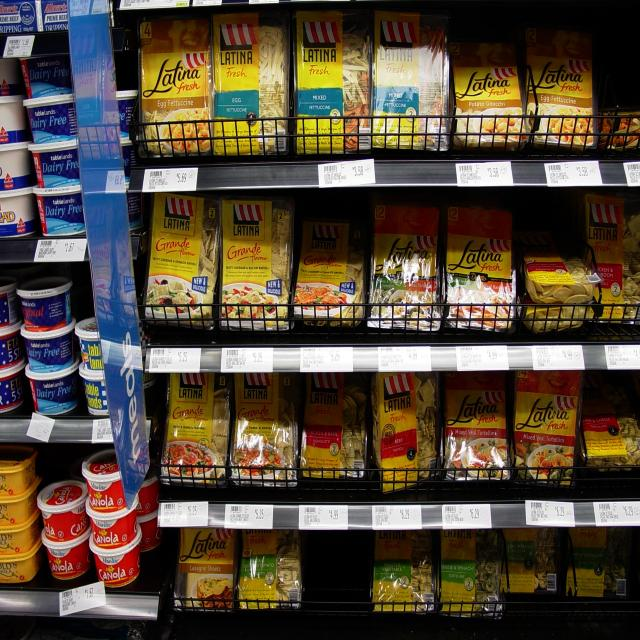empty_space: (308, 550, 364, 610)
